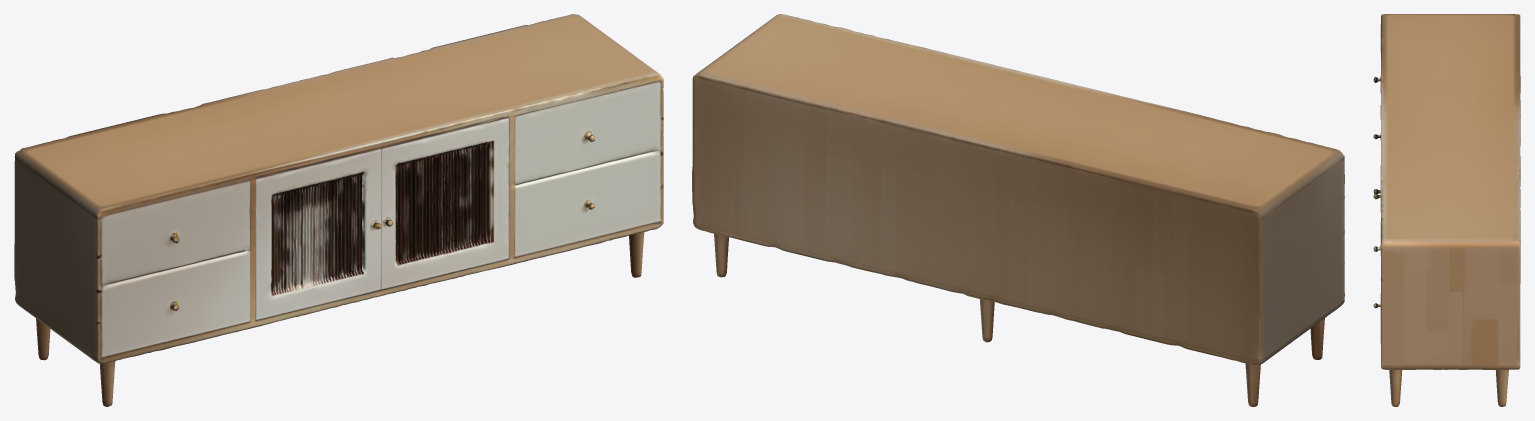
File: 电视柜 (2).fbx
3 views of the same model, side by side, from view 1: azimuth 30°, elevation 25°; view 2: azimuth 150°, elevation 25°; view 3: azimuth 270°, elevation 25° (orthographic). The views are drawn at different scales.
Parts seen in each view (by area): view 1: model; view 2: model; view 3: model.
Part boxes in pixels (left/top/right/bottom): model: left=14, top=14, right=663, bottom=406; model: left=692, top=14, right=1344, bottom=406; model: left=1373, top=14, right=1520, bottom=406.
Bounding box in the file's own units: 188 × 65.31 × 50.72.
1 material, 1 textured.
